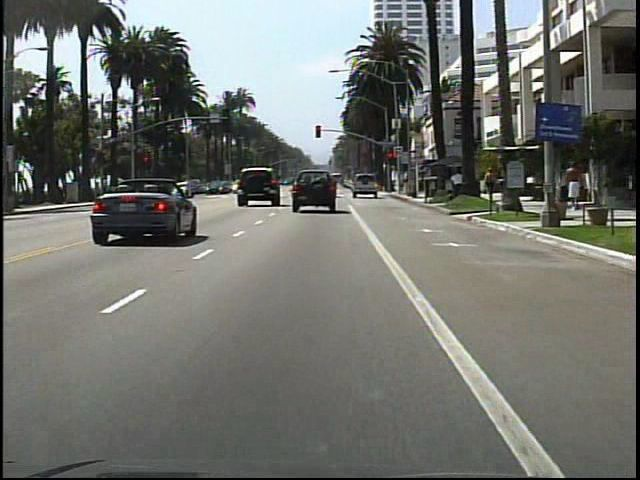person: (563, 159, 580, 214), (448, 168, 468, 202), (484, 166, 498, 208)
